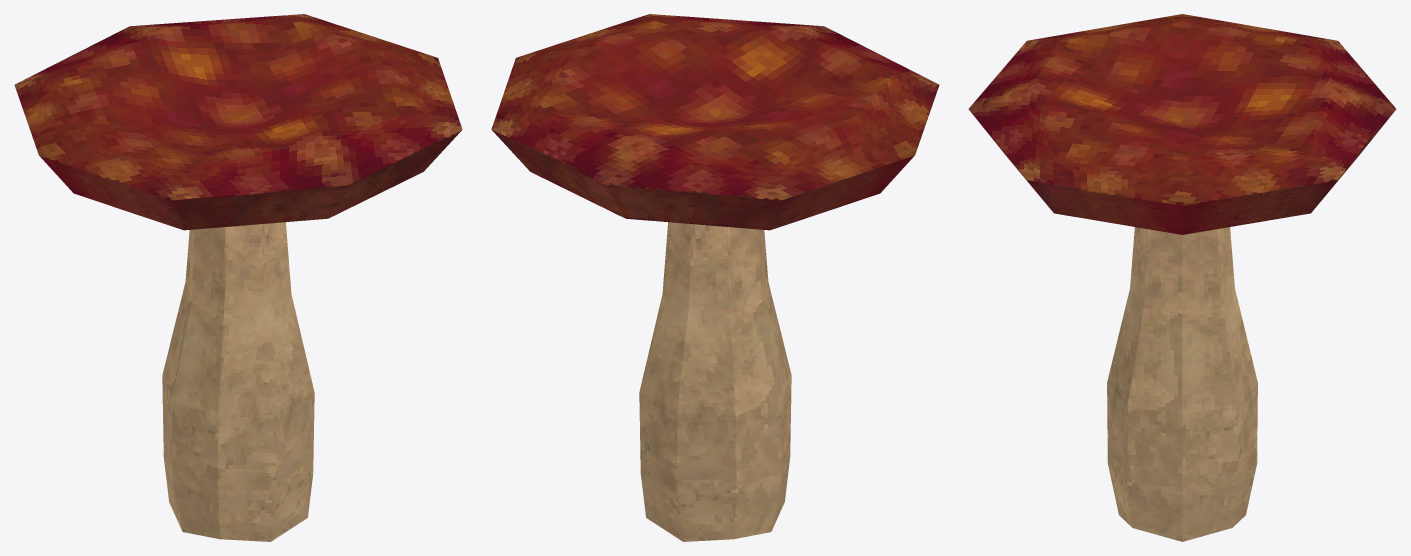
File: mushroom_05.glb
3 views of the same model, side by side, from view 1: azimuth 30°, elevation 25°; view 2: azimuth 150°, elevation 25°; view 3: azimuth 270°, elevation 25° (orthographic).
Parts seen in each view (by area): view 1: MUSH_05-no-col; view 2: MUSH_05-no-col; view 3: MUSH_05-no-col.
Boxes of the visible parts, x1,y1,x2,y2 form: MUSH_05-no-col: [14, 14, 462, 541]; MUSH_05-no-col: [491, 14, 939, 541]; MUSH_05-no-col: [968, 14, 1396, 541].
Size of the model in its own units: 1.7 by 1.83 by 1.6.
Materials: 1 (1 with a texture image).
